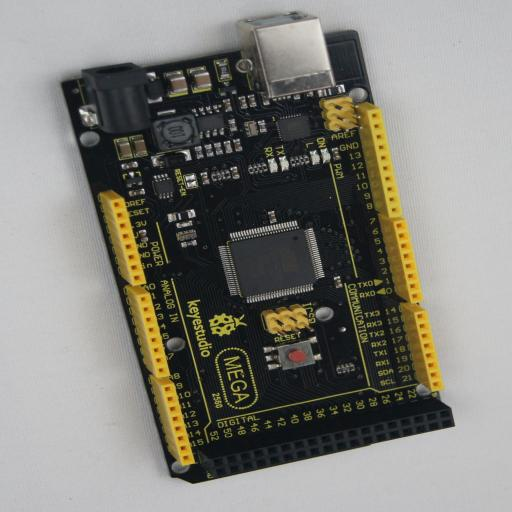Arduino Mega 2560 -Black and Yellow-: (60, 12, 455, 484)
